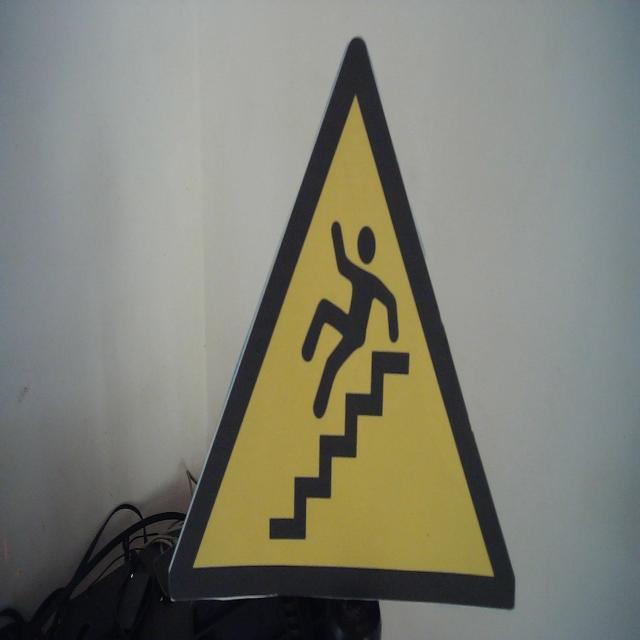stairs: (166, 33, 517, 613)
